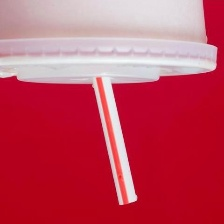drinking_straw: (85, 72, 141, 208)
glass: (0, 0, 222, 91)
